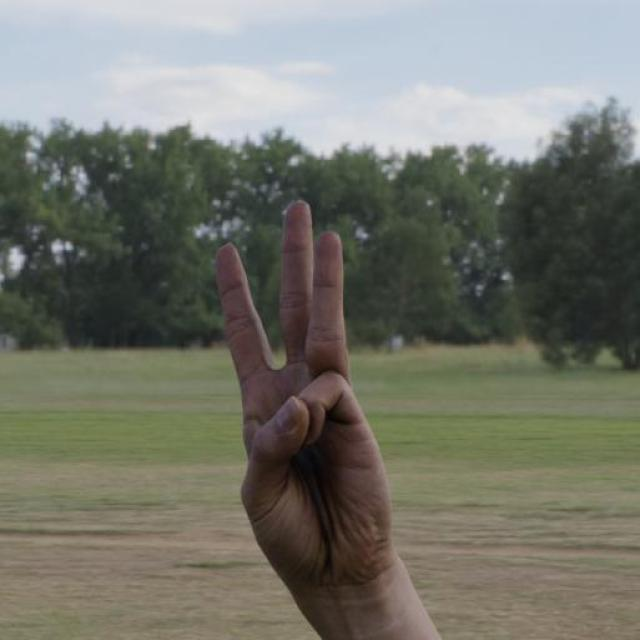W: (208, 196, 400, 592)
